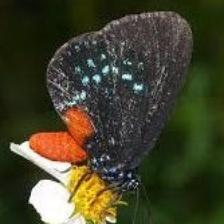butterfly: (30, 12, 192, 190)
